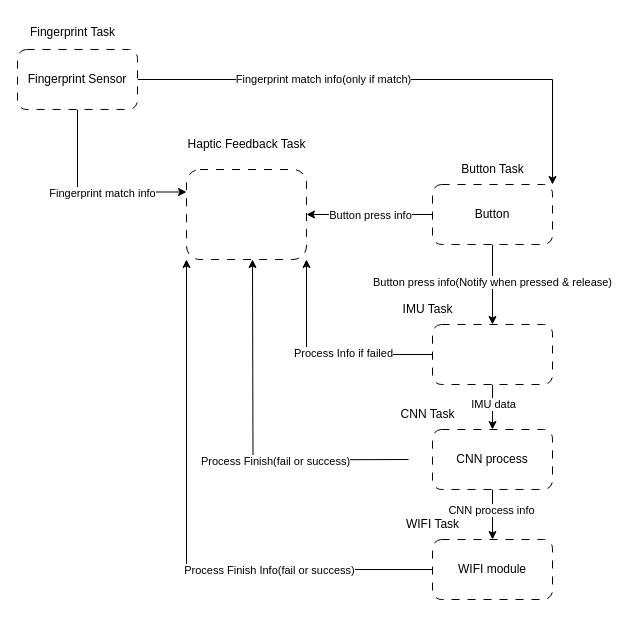
Some shapes in this 629 by 617 pixel diagram are drawn without their labels. Each missing label, with the box of its shape:
IMU: (432, 324, 552, 384)
LED1 LED2 LED3 LED4 Motor: (186, 168, 306, 260)
